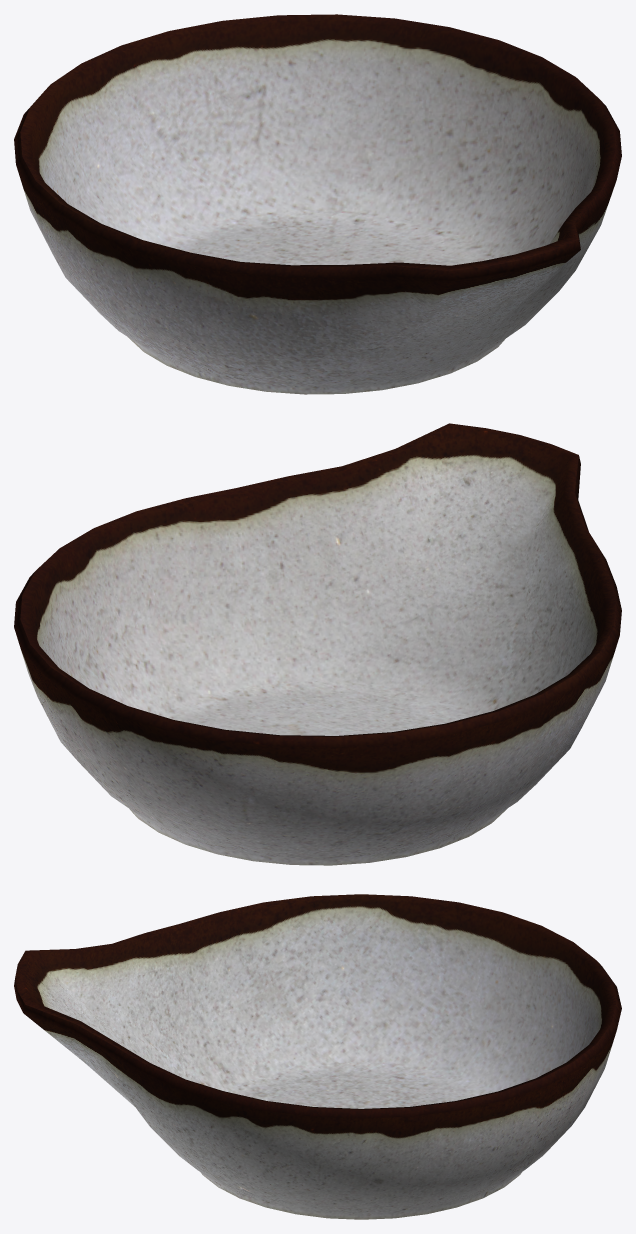
The model's file is sara07B.fbx.
The picture shows the model from 3 angles, top to bottom: view 1: azimuth 30°, elevation 25°; view 2: azimuth 150°, elevation 25°; view 3: azimuth 270°, elevation 25°; orthographic projection. The views are drawn at different scales.
Visible parts, largest first — view 1: sara07B; view 2: sara07B; view 3: sara07B.
Boxes of the visible parts, bbox=[...] form: sara07B: bbox=[14, 14, 621, 394]; sara07B: bbox=[14, 423, 621, 865]; sara07B: bbox=[14, 894, 621, 1219].
Bounding box in the file's own units: 9.87 × 3.63 × 11.51.
